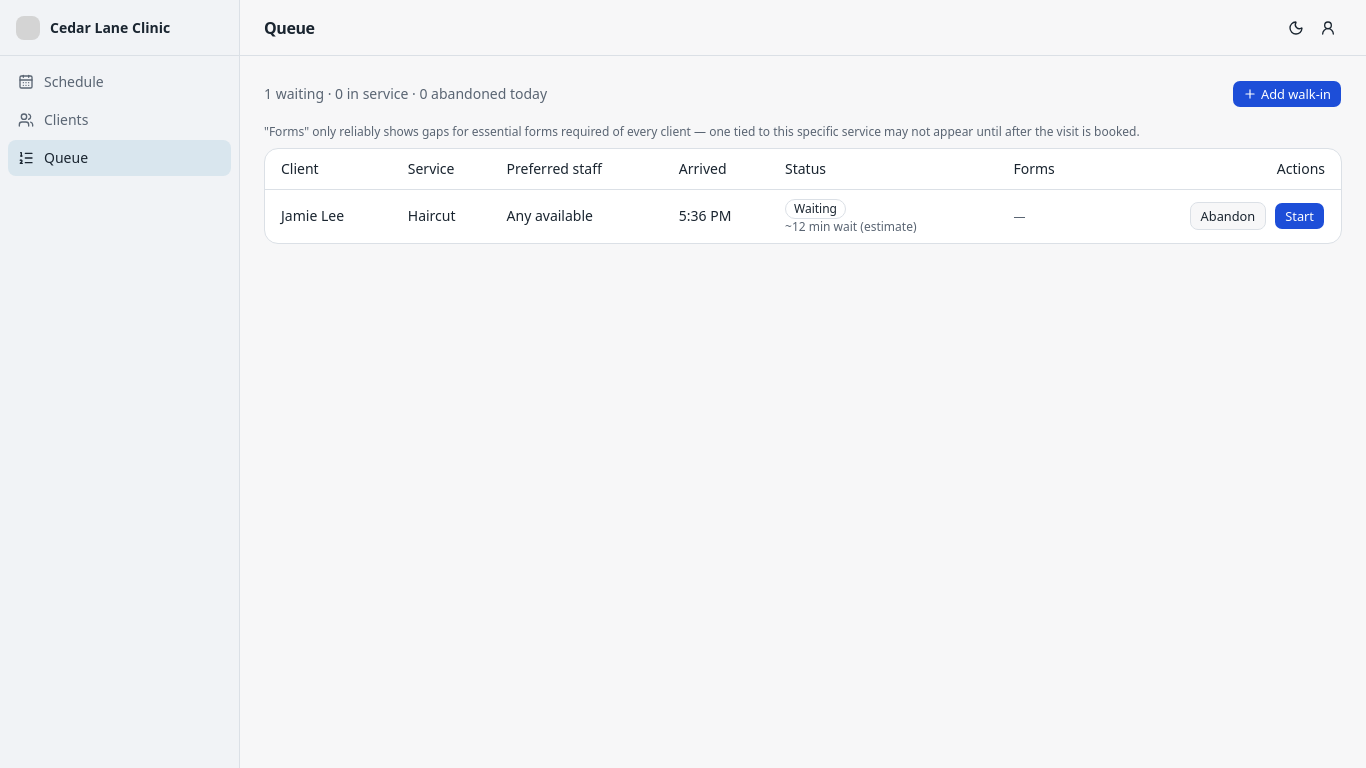
abandoning a waiting entry removes it from the visible list
The width and height of the screenshot is (1366, 768).
Expected: the text "Jamie Lee" is shown, [281,206,344,225]
Click the button "Abandon".
click(1228, 216)  # box [1190,202,1266,230]
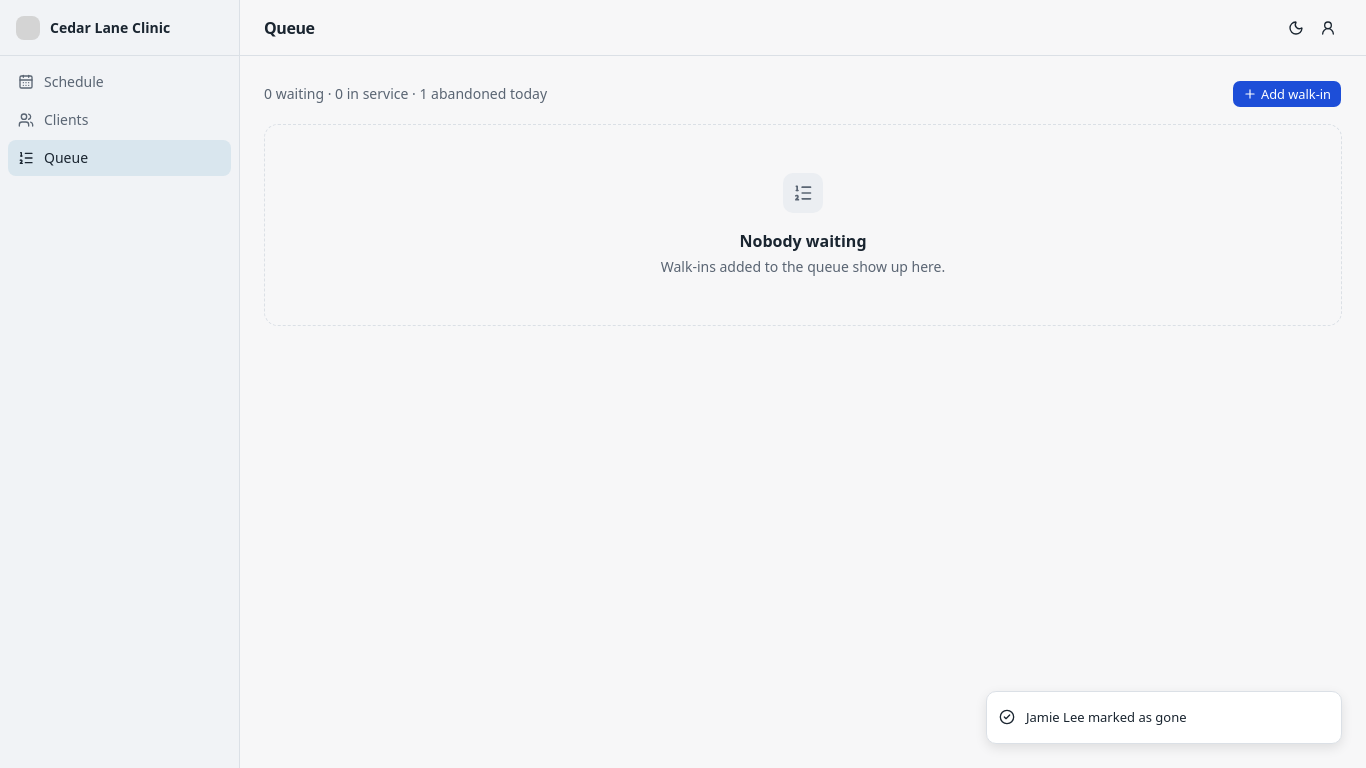
Result: the text "0 waiting · 0 in service · 1 abandoned today" is shown at [264,84,547,104]
